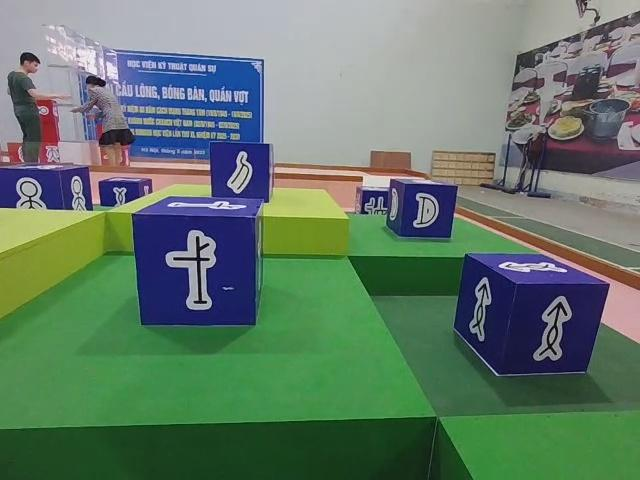R2 Real Blue: (456, 255, 611, 379), (134, 198, 265, 332), (387, 178, 459, 241), (0, 162, 89, 211), (208, 142, 273, 205), (100, 175, 154, 206), (352, 187, 389, 216)
